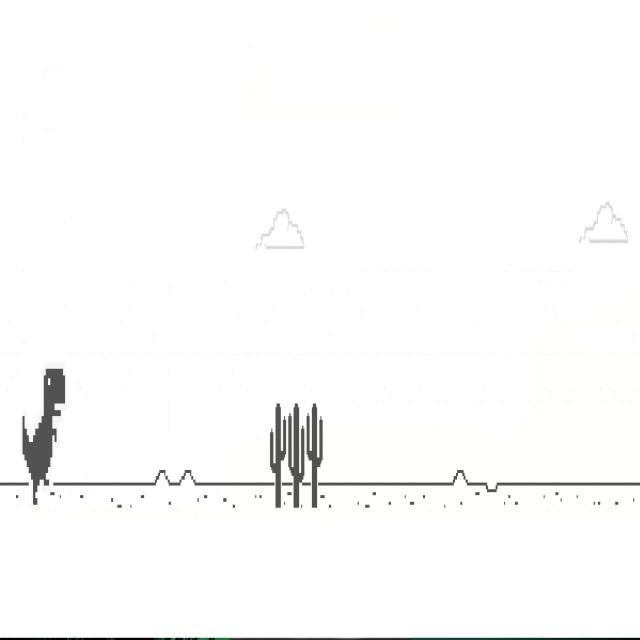cacto: (288, 403, 305, 509), (306, 403, 323, 508), (270, 404, 286, 508)
dino: (23, 368, 66, 506)
